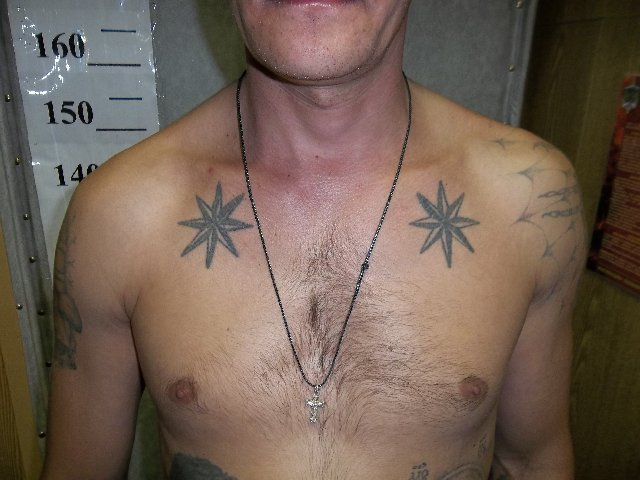tatu4_zvezda: (177, 180, 254, 272), (408, 179, 480, 270)
